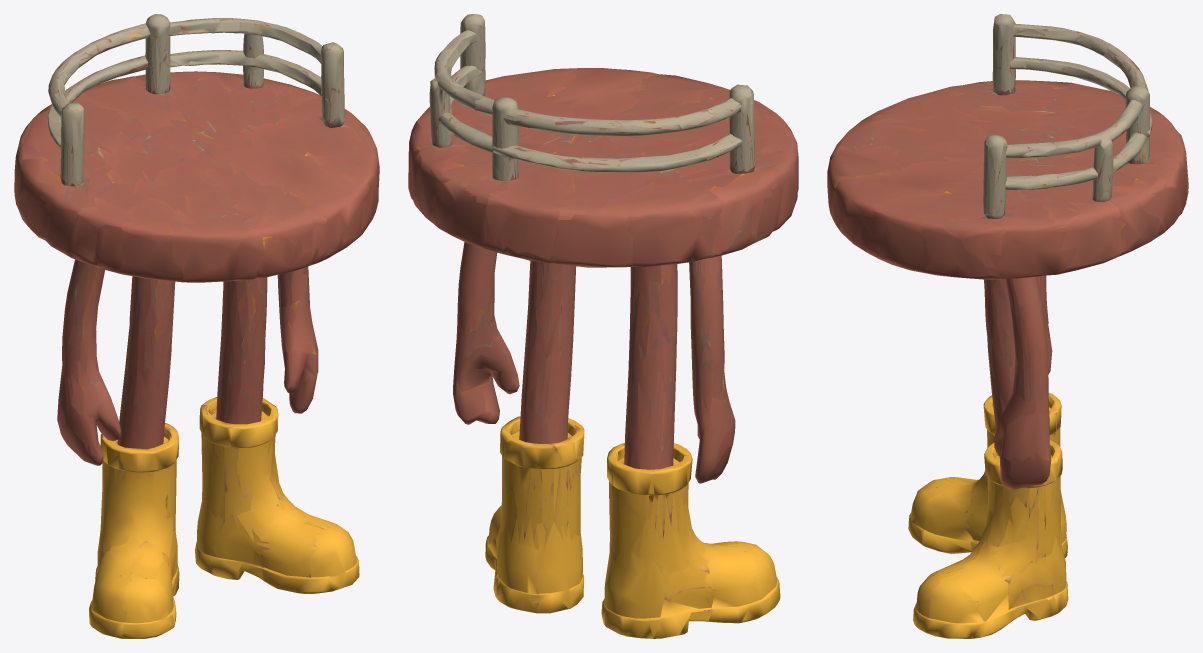
Rendered from fence_stool.glb.
The picture shows the model from 3 angles, left to right: view 1: azimuth 30°, elevation 25°; view 2: azimuth 150°, elevation 25°; view 3: azimuth 270°, elevation 25°; orthographic projection. The views are drawn at different scales.
Bounding box in the file's own units: 1.23 × 1.9 × 1.23.
Materials: 1 (1 with a texture image).
